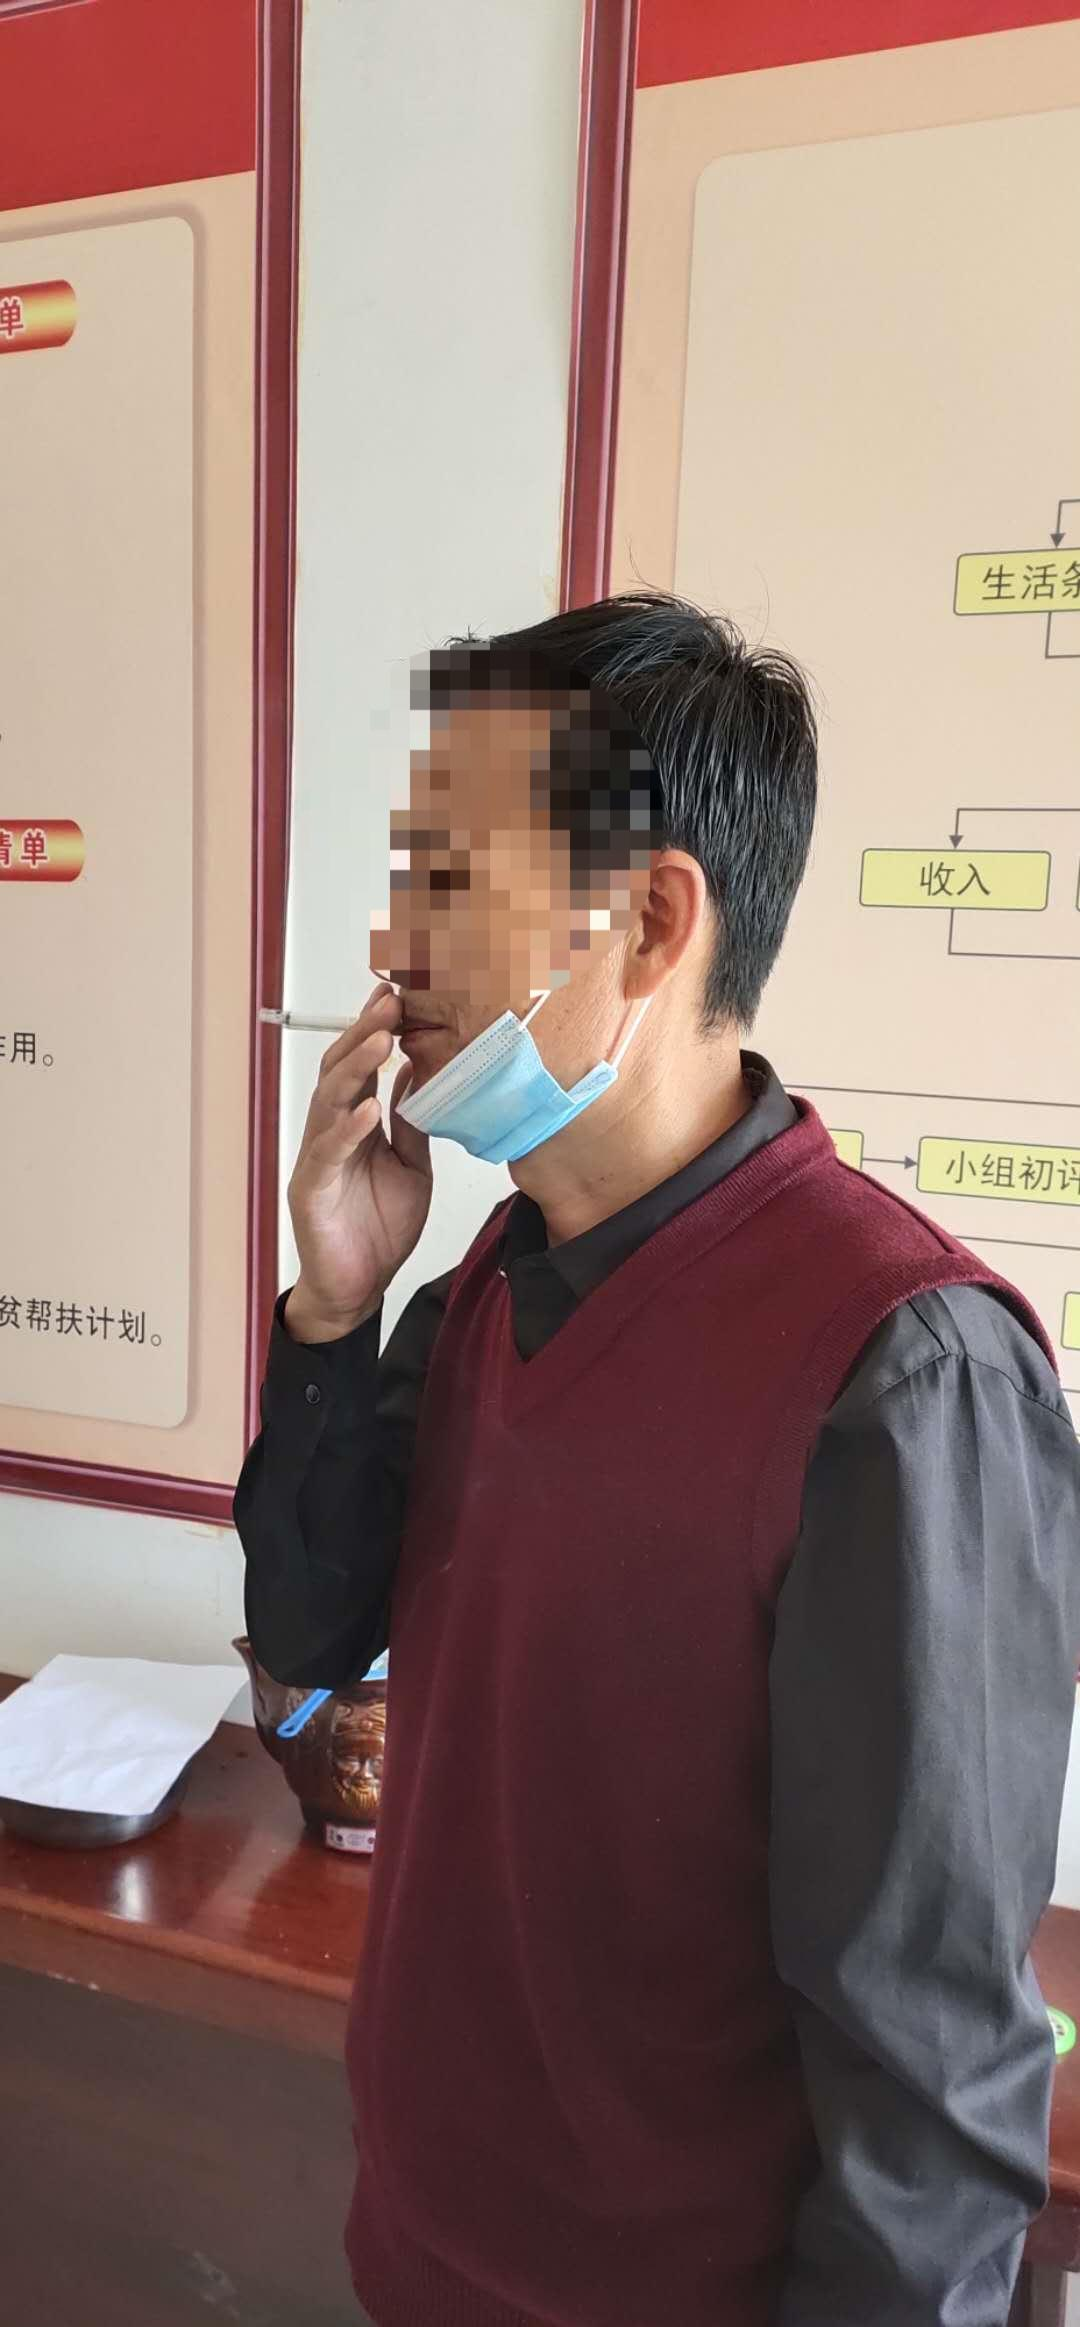smoke: (249, 1005, 369, 1040)
